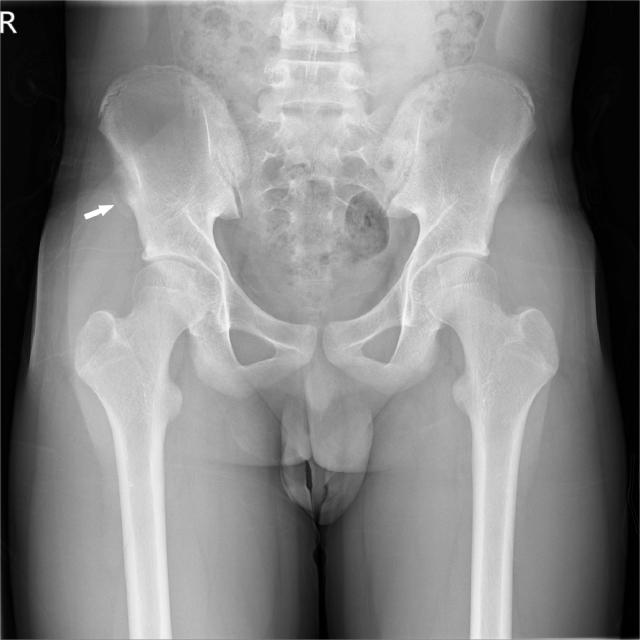fracture: (95, 140, 195, 272)
